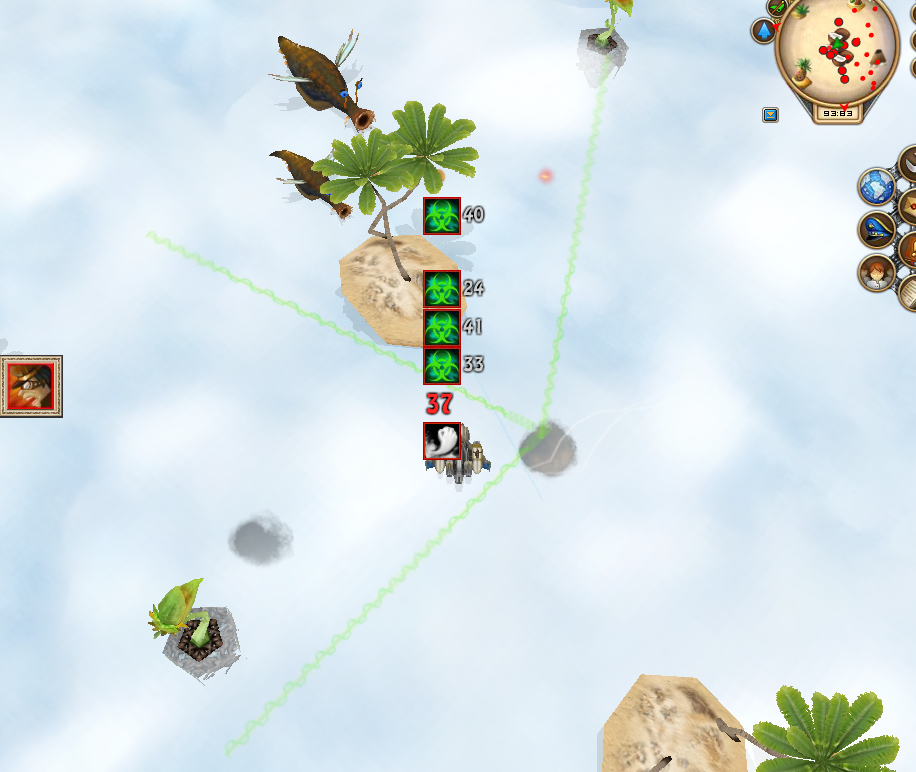palm: (313, 100, 490, 347), (581, 652, 916, 772)
